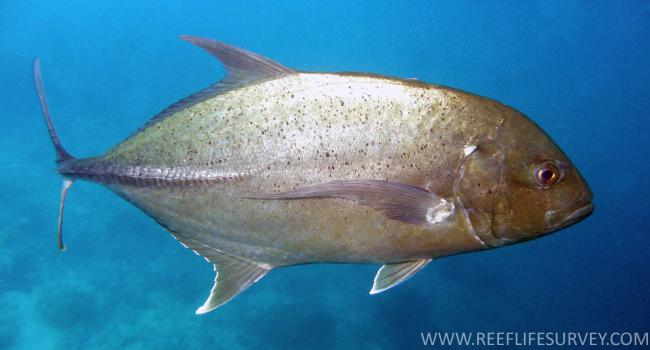fish: (32, 34, 596, 316)
